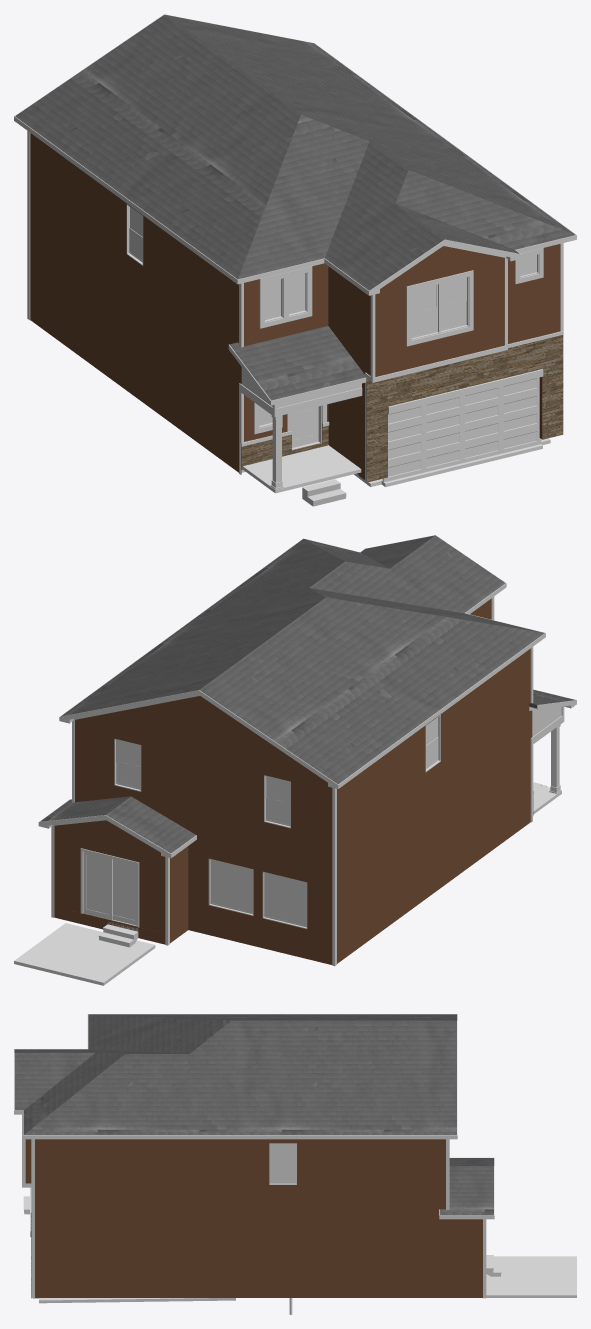
File: 229-1994-dm-traditional-a.glb
3 views of the same model, one above another, from view 1: azimuth 30°, elevation 25°; view 2: azimuth 150°, elevation 25°; view 3: azimuth 270°, elevation 25° (orthographic). The views are drawn at different scales.
Visible parts, largest first — view 1: Basic Roof Wood Rafter 4" - Asphalt Shingle - Insulated_af63, Basic Wall BSB Exterior - Stud_5.5" - Sheathing_0.5" - _cba5, Traditional - BSB Exterior - Overhead Garage Door - Clo_8bd8, Basic Wall BSB Exterior - Stud_3.5" - Sheathing_0.5" - _7f34, Basic Wall BSB Exterior - Stone Veneer_2" [4741812], Basic Wall BSB Exterior - Stud_3.5" - Sheathing_0.5" - _7b54, Basic Wall BSB Exterior - Stud_5.5" - Sheathing_0.5" - _a64e, Basic Roof Wood Rafter 4" - Asphalt Shingle - Insulated_c630, Basic Wall BSB Exterior - Stud_3.5" - Sheathing_0.5" - _df46, Basic Wall BSB Exterior - Stud_3.5" - Sheathing_0.5" - _b2a8, Fascia Fascia-Flat 1x6 w/12" Soffit Bd [4240365], Basic Wall BSB Exterior - Stud_3.5" - Sheathing_0.5" - _289f (+24 smaller); view 2: Basic Roof Wood Rafter 4" - Asphalt Shingle - Insulated_af63, Basic Wall BSB Exterior - Stud_3.5" - Sheathing_0.5" - _2e51, Basic Wall BSB Exterior - Stud_5.5" - Sheathing_0.5" - _cba5, Basic Wall BSB Exterior - Stud_3.5" - Sheathing_0.5" - _ca60, Basic Wall BSB Exterior - Stud_3.5" - Sheathing_0.5" - _7f34, Basic Wall BSB Exterior - Stud_3.5" - Sheathing_0.5" - _a688, Basic Wall BSB Exterior - Stud_1.5" - Sheathing_0.5" - _dc73, Basic Wall BSB Exterior - Stud_5.5" - Sheathing_0.5" - _a64e, Floor BSB Concrete Slab - 4" - Slope Option [4621636], Basic Wall BSB Exterior - Stud_3.5" - Sheathing_0.5" - _df46, BSB Exterior - SGD XO - 1-Lite 6068 [4608851], Basic Roof Wood Rafter 4" - Asphalt Shingle - Insulated_5cc2 (+14 smaller); view 3: Basic Roof Wood Rafter 4" - Asphalt Shingle - Insulated_af63, Basic Wall BSB Exterior - Stud_3.5" - Sheathing_0.5" - _3bf5, Basic Wall BSB Exterior - Stud_3.5" - Sheathing_0.5" - _f4ce, Basic Wall BSB Exterior - Stud_3.5" - Sheathing_0.5" - _a8d1, Basic Wall BSB Exterior - Stud_3.5" - Sheathing_0.5" - _2a5f, Basic Wall BSB Exterior - Stud_3.5" - Sheathing_0.5" - _63a0, Floor BSB Concrete Slab - 4" - Slope Option [4621636], Fascia Fascia-Flat 1x6 w/12" Soffit Bd [4240365], Basic Roof Wood Rafter 4" - Asphalt Shingle - Insulated_5cc2, Basic Wall BSB Exterior - Stud_3.5" - Sheathing_0.5" - _f4b9, Basic Wall BSB Exterior - Stud_3.5" - Sheathing_0.5" - _3341, Basic Wall BSB Exterior - Stud_3.5" - Sheathing_0.5" - _bfd5 (+4 smaller).
Boxes of the visible parts, x1,y1,x2,y2 form: Basic Roof Wood Rafter 4" - Asphalt Shingle - Insulated_af63: (15, 14, 575, 290); Basic Wall BSB Exterior - Stud_5.5" - Sheathing_0.5" - _cba5: (124, 201, 199, 443); Traditional - BSB Exterior - Overhead Garage Door - Clo_8bd8: (382, 377, 541, 482); Basic Wall BSB Exterior - Stud_3.5" - Sheathing_0.5" - _7f34: (30, 217, 123, 388); Basic Wall BSB Exterior - Stone Veneer_2" [4741812]: (366, 331, 563, 482); Basic Wall BSB Exterior - Stud_3.5" - Sheathing_0.5" - _7b54: (375, 257, 504, 376); Basic Wall BSB Exterior - Stud_5.5" - Sheathing_0.5" - _a64e: (200, 257, 235, 469); Basic Roof Wood Rafter 4" - Asphalt Shingle - Insulated_c630: (229, 326, 365, 400); Basic Wall BSB Exterior - Stud_3.5" - Sheathing_0.5" - _df46: (30, 133, 94, 262); Basic Wall BSB Exterior - Stud_3.5" - Sheathing_0.5" - _b2a8: (508, 244, 560, 343); Fascia Fascia-Flat 1x6 w/12" Soffit Bd [4240365]: (14, 14, 576, 295); Basic Wall BSB Exterior - Stud_3.5" - Sheathing_0.5" - _289f: (328, 266, 376, 375); Basic Roof Wood Rafter 4" - Asphalt Shingle - Insulated_af63: (61, 535, 544, 784); Basic Wall BSB Exterior - Stud_3.5" - Sheathing_0.5" - _2e51: (75, 719, 332, 868); Basic Wall BSB Exterior - Stud_5.5" - Sheathing_0.5" - _cba5: (423, 675, 493, 900); Basic Wall BSB Exterior - Stud_3.5" - Sheathing_0.5" - _ca60: (188, 836, 332, 964); Basic Wall BSB Exterior - Stud_3.5" - Sheathing_0.5" - _7f34: (337, 805, 423, 963); Basic Wall BSB Exterior - Stud_3.5" - Sheathing_0.5" - _a688: (54, 820, 165, 944); Basic Wall BSB Exterior - Stud_1.5" - Sheathing_0.5" - _dc73: (78, 696, 321, 778); Basic Wall BSB Exterior - Stud_5.5" - Sheathing_0.5" - _a64e: (494, 651, 526, 848); Floor BSB Concrete Slab - 4" - Slope Option [4621636]: (14, 923, 155, 985); Basic Wall BSB Exterior - Stud_3.5" - Sheathing_0.5" - _df46: (337, 747, 395, 867); BSB Exterior - SGD XO - 1-Lite 6068 [4608851]: (80, 848, 139, 927); Basic Roof Wood Rafter 4" - Asphalt Shingle - Insulated_5cc2: (40, 796, 195, 853); Basic Roof Wood Rafter 4" - Asphalt Shingle - Insulated_af63: (14, 1014, 456, 1134); Basic Wall BSB Exterior - Stud_3.5" - Sheathing_0.5" - _3bf5: (279, 1212, 482, 1297); Basic Wall BSB Exterior - Stud_3.5" - Sheathing_0.5" - _f4ce: (70, 1212, 264, 1297); Basic Wall BSB Exterior - Stud_3.5" - Sheathing_0.5" - _a8d1: (70, 1139, 231, 1211); Basic Wall BSB Exterior - Stud_3.5" - Sheathing_0.5" - _2a5f: (333, 1139, 445, 1211); Basic Wall BSB Exterior - Stud_3.5" - Sheathing_0.5" - _63a0: (231, 1139, 333, 1211); Floor BSB Concrete Slab - 4" - Slope Option [4621636]: (486, 1256, 576, 1297); Fascia Fascia-Flat 1x6 w/12" Soffit Bd [4240365]: (14, 1014, 457, 1139); Basic Roof Wood Rafter 4" - Asphalt Shingle - Insulated_5cc2: (440, 1158, 493, 1215); Basic Wall BSB Exterior - Stud_3.5" - Sheathing_0.5" - _f4b9: (35, 1139, 69, 1211); Basic Wall BSB Exterior - Stud_3.5" - Sheathing_0.5" - _3341: (42, 1212, 69, 1297); Basic Wall BSB Exterior - Stud_3.5" - Sheathing_0.5" - _bfd5: (265, 1212, 278, 1297).
Size of the model in its own units: 9.49 by 10.37 by 18.61.
Materials: 3 (2 with a texture image).
